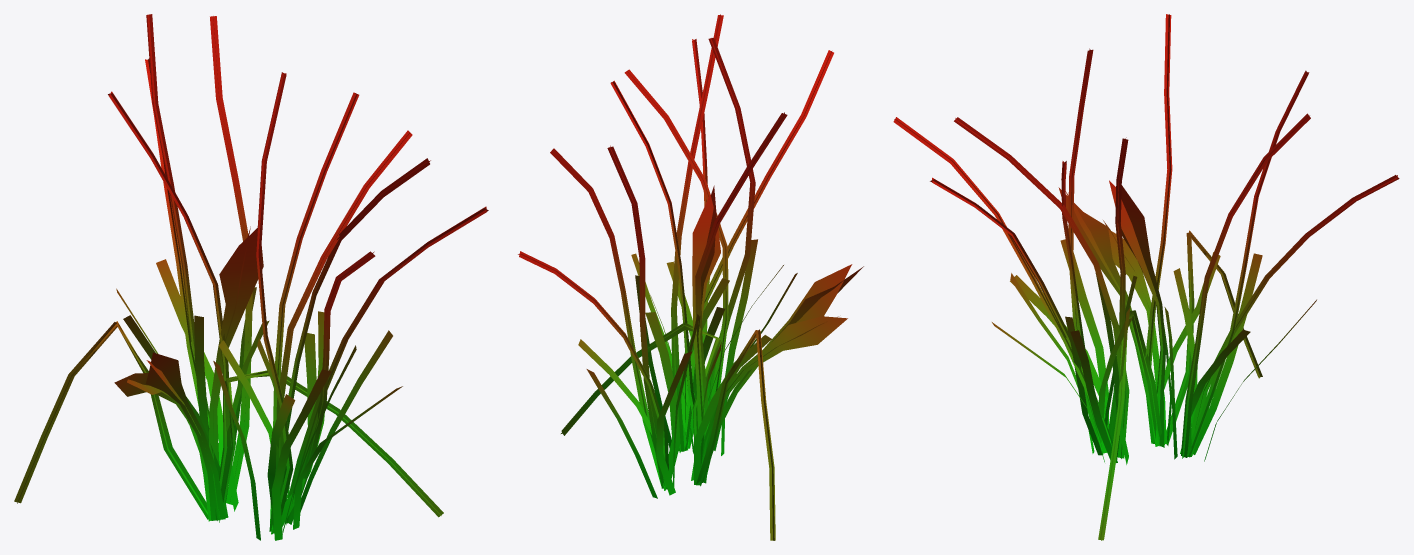
The model's file is Carnation Weed_LOD2_Var4_smdpecor.fbx.
3 views of the same model, side by side, from view 1: azimuth 30°, elevation 25°; view 2: azimuth 150°, elevation 25°; view 3: azimuth 270°, elevation 25° (orthographic). The views are drawn at different scales.
Parts seen in each view (by area): view 1: _8936_Var4_LOD2; view 2: _8936_Var4_LOD2; view 3: _8936_Var4_LOD2.
Boxes of the visible parts, x1,y1,x2,y2 form: _8936_Var4_LOD2: (14, 14, 488, 540); _8936_Var4_LOD2: (518, 14, 863, 540); _8936_Var4_LOD2: (893, 14, 1399, 540).
Bounding box in the file's own units: 9.25 × 12.85 × 13.92.
